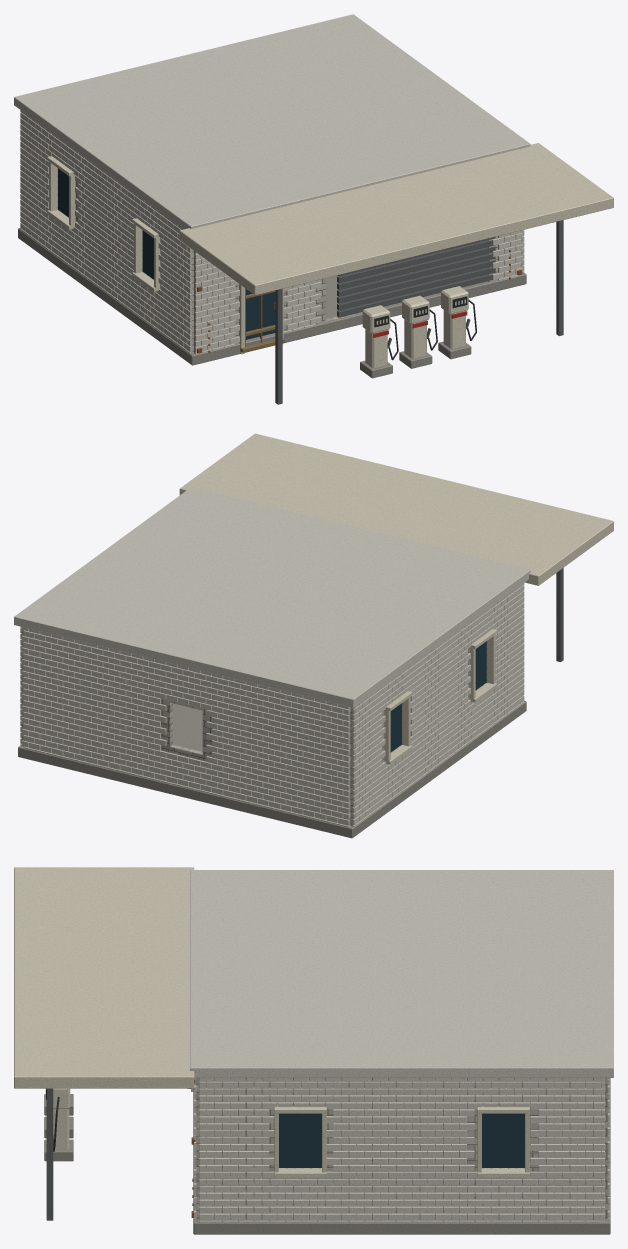
File: GASB2_lod0.glb
3 renders of one model, top to bottom at view 1: azimuth 30°, elevation 25°; view 2: azimuth 150°, elevation 25°; view 3: azimuth 270°, elevation 25°, orthographic. The views are drawn at different scales.
Visible parts, largest first — view 1: GASB2_LOD0; view 2: GASB2_LOD0; view 3: GASB2_LOD0.
Part boxes in pixels (left/top/right/bottom): GASB2_LOD0: left=14, top=14, right=613, bottom=404; GASB2_LOD0: left=14, top=433, right=613, bottom=838; GASB2_LOD0: left=14, top=867, right=613, bottom=1234.
Bounding box in the file's own units: 11 × 4.12 × 13.3.
14 materials, 11 textured.
